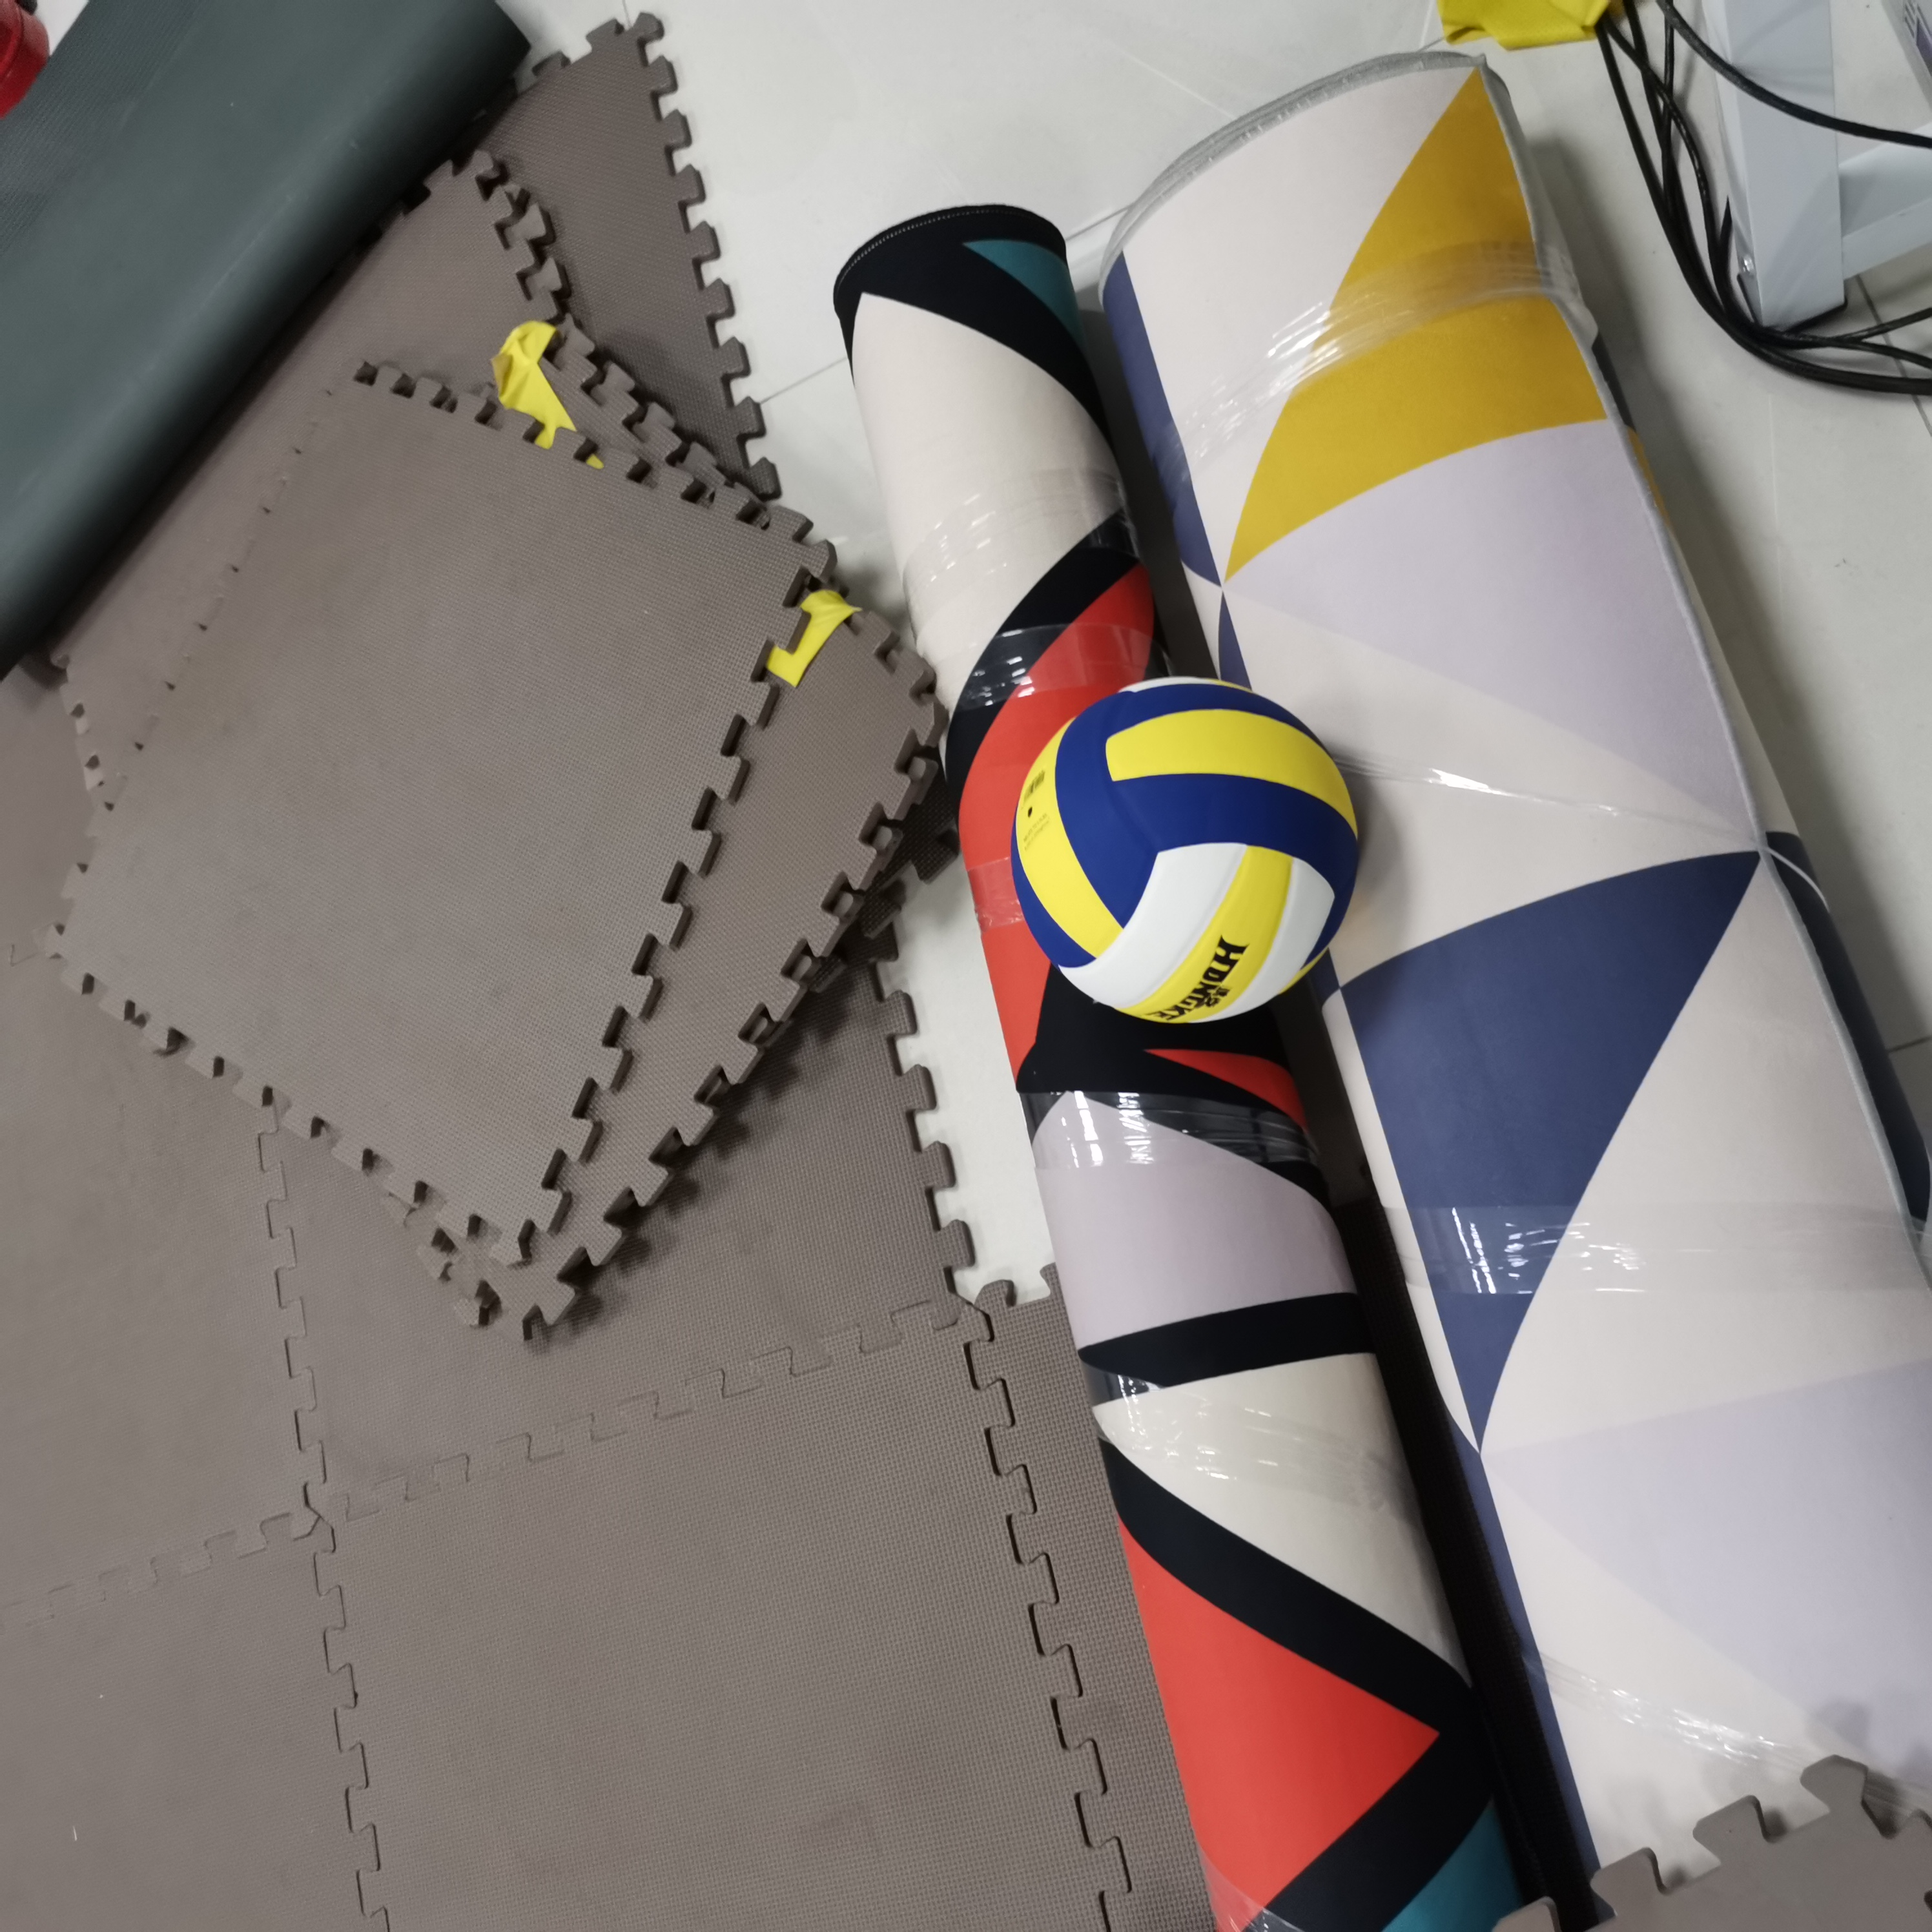volleyball: (1007, 681, 1366, 1024)
